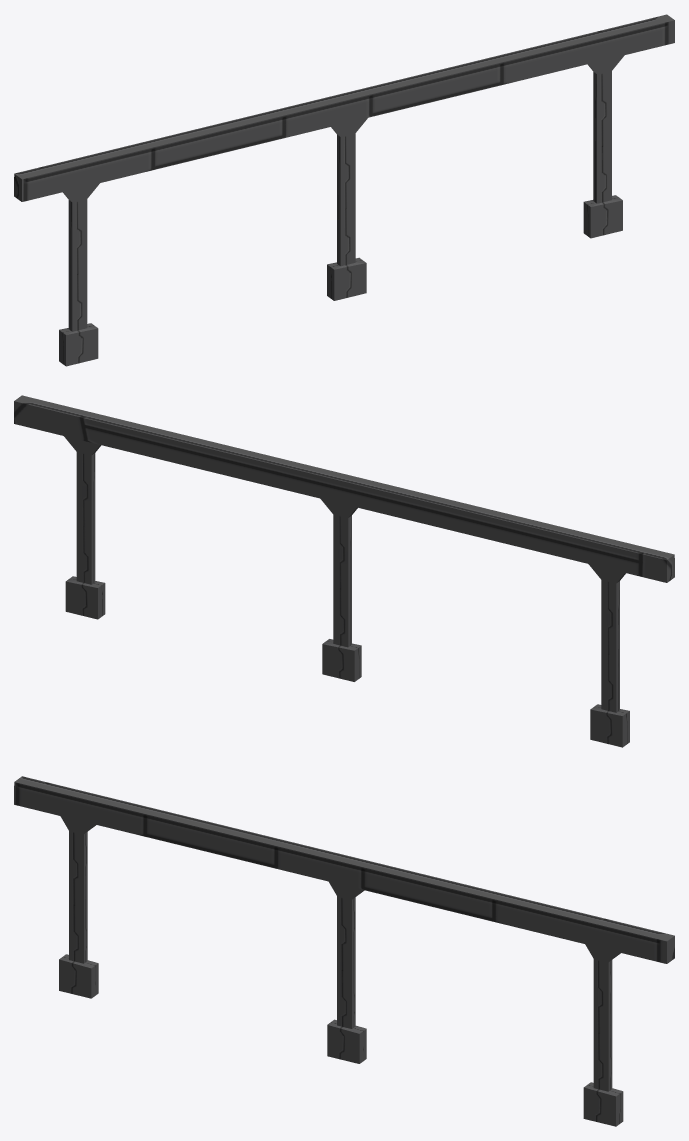
The model's file is Railing 01.fbx.
3 views of the same model, one above another, from view 1: azimuth 30°, elevation 25°; view 2: azimuth 150°, elevation 25°; view 3: azimuth 330°, elevation 25° (orthographic).
Visible parts, largest first — view 1: Railing 01; view 2: Railing 01; view 3: Railing 01.
Part boxes in pixels (<box>): Railing 01: <box>14,14,674,366</box>; Railing 01: <box>14,395,674,747</box>; Railing 01: <box>14,776,674,1126</box>.
Bounding box in the file's own units: 283 × 81.98 × 5.96.
